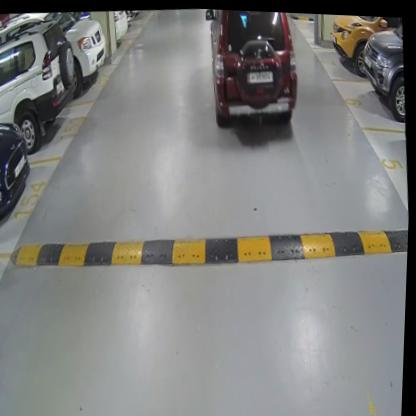np: (247, 66, 274, 85)
